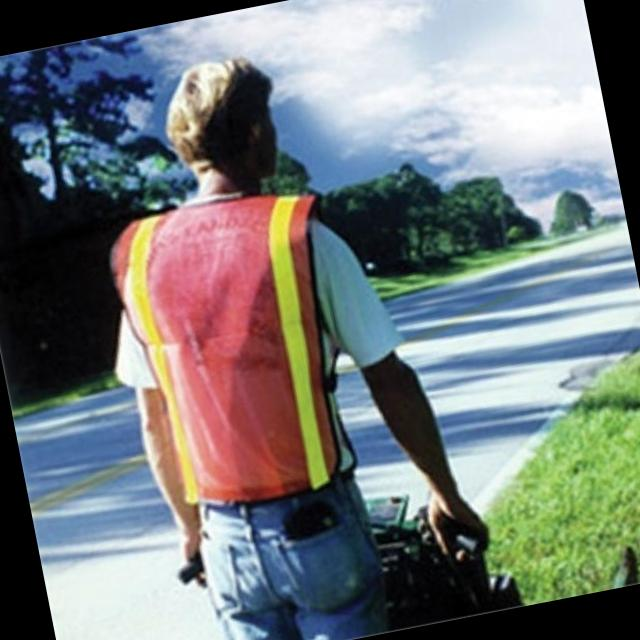safety_vest: (111, 170, 360, 535)
vehicle: (50, 35, 498, 640)
